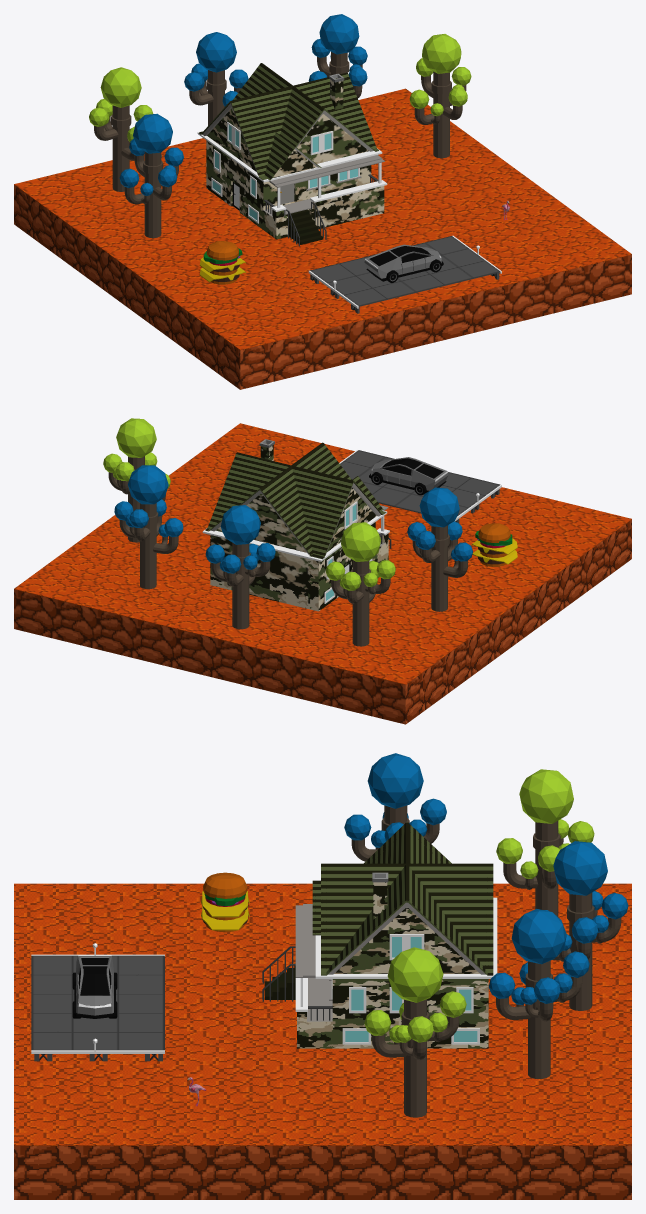
3 views of the same model, one above another, from view 1: azimuth 30°, elevation 25°; view 2: azimuth 150°, elevation 25°; view 3: azimuth 270°, elevation 25° (orthographic). The views are drawn at different scales.
Parts seen in each view (by area): view 1: Cube.001, Cube.002, VEHICLES_CYBERTRUCK, OBJRANDOM_HAMBURGER; view 2: Cube.001, Cube.002, VEHICLES_CYBERTRUCK, OBJRANDOM_HAMBURGER; view 3: Cube.001, Cube.002, VEHICLES_CYBERTRUCK, OBJRANDOM_HAMBURGER.
Boxes of the visible parts, x1,y1,x2,y2 form: Cube.001: [14, 14, 631, 389]; Cube.002: [197, 63, 387, 246]; VEHICLES_CYBERTRUCK: [364, 244, 443, 282]; OBJRANDOM_HAMBURGER: [199, 241, 245, 284]; Cube.001: [14, 418, 631, 724]; Cube.002: [202, 439, 391, 611]; VEHICLES_CYBERTRUCK: [369, 457, 448, 495]; OBJRANDOM_HAMBURGER: [471, 523, 517, 566]; Cube.001: [14, 753, 631, 1199]; Cube.002: [262, 822, 497, 1048]; VEHICLES_CYBERTRUCK: [72, 955, 117, 1018]; OBJRANDOM_HAMBURGER: [201, 872, 249, 932].
Bounding box in the file's own units: 4000 × 1687 × 4000.
Materials: 35 (7 with a texture image).
